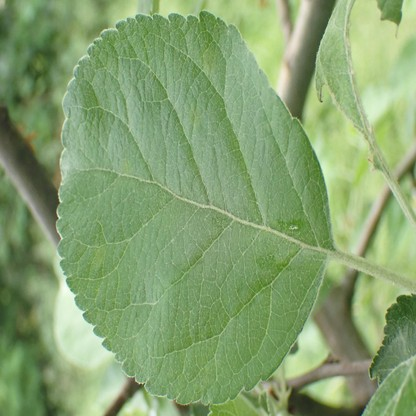scab: (203, 50, 215, 73), (93, 246, 105, 269), (189, 105, 200, 126), (122, 159, 130, 173)
